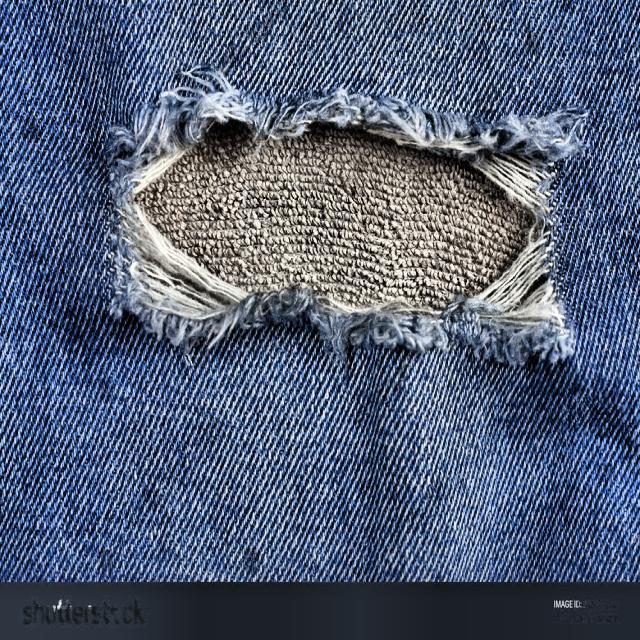Hole: (87, 49, 600, 401)
